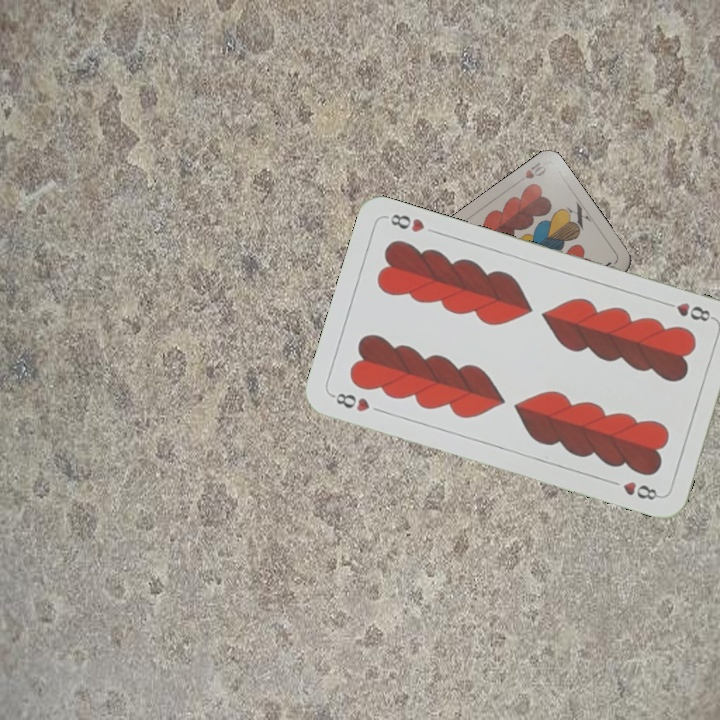H10: (511, 157, 549, 188)
H8: (659, 297, 717, 325), (327, 388, 373, 415)
